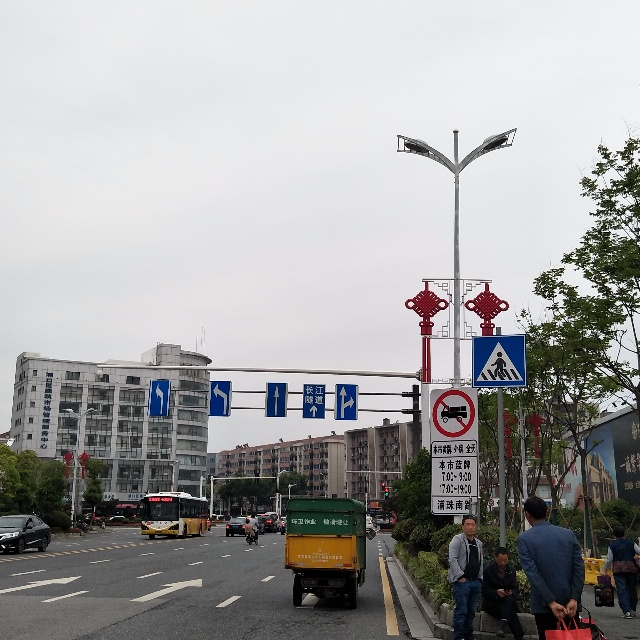crosswalk: (470, 334, 526, 389)
left: (205, 381, 233, 418), (144, 379, 168, 419)
straight: (264, 381, 284, 418), (305, 401, 324, 418)
